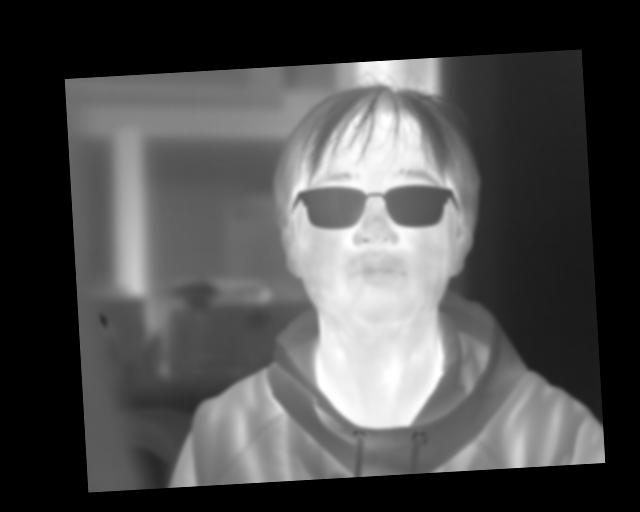face: (118, 268, 285, 461), (226, 211, 356, 353)
